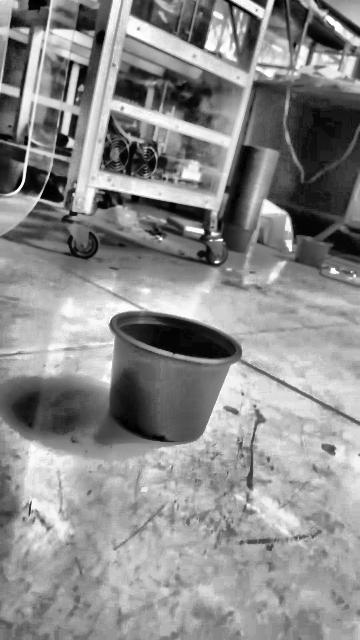pot: (109, 311, 241, 442)
